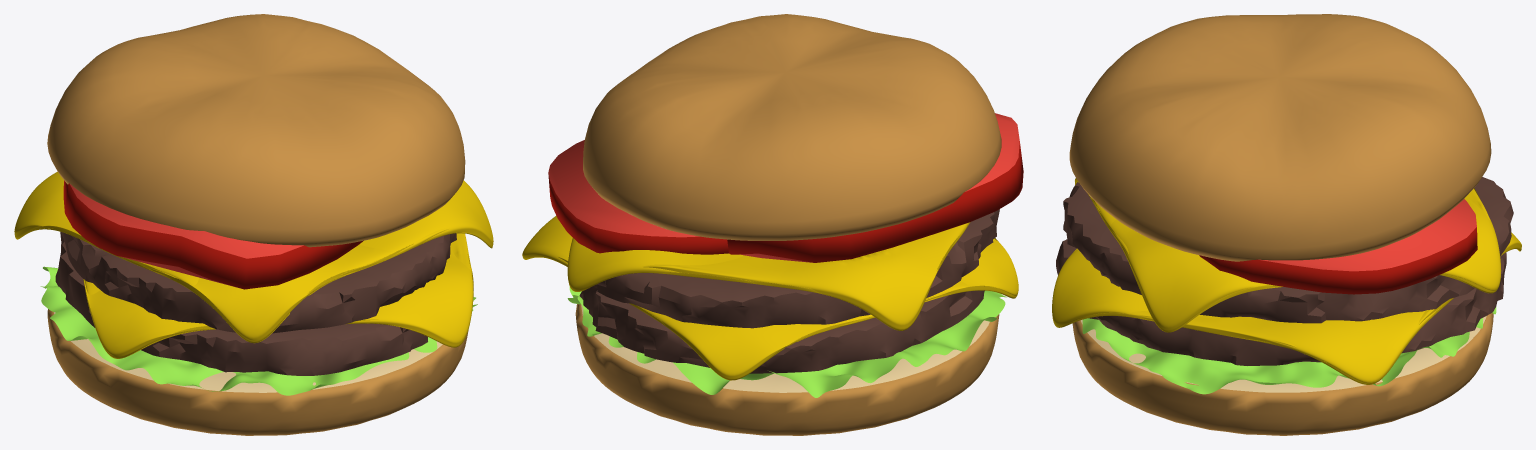
The model's file is burger-reduced.glb.
3 views of the same model, side by side, from view 1: azimuth 30°, elevation 25°; view 2: azimuth 150°, elevation 25°; view 3: azimuth 270°, elevation 25° (orthographic).
Parts seen in each view (by area): view 1: bun-top, bun-bottom, patty-2, cheese-2, tomato-1, patty-1, cheese-2.001, lettuce; view 2: bun-top, bun-bottom, cheese-2, patty-2, patty-1, cheese-2.001, tomato-1, tomato-2, lettuce; view 3: bun-top, bun-bottom, cheese-2.001, patty-2, cheese-2, tomato-2, patty-1, lettuce.
Part boxes in pixels (box(x1,y1,x2,y2)): bun-top: box(47, 14, 465, 247); bun-bottom: box(47, 309, 468, 435); patty-2: box(61, 232, 456, 333); cheese-2: box(14, 172, 493, 343); tomato-1: box(63, 180, 363, 289); patty-1: box(55, 232, 427, 375); cheese-2.001: box(83, 233, 473, 358); lettuce: box(40, 266, 477, 395); bun-top: box(583, 14, 1001, 240); bun-bottom: box(575, 304, 999, 435); cheese-2: box(567, 222, 970, 330); patty-2: box(593, 209, 999, 328); patty-1: box(579, 286, 984, 373); cheese-2.001: box(522, 216, 1018, 380); tomato-1: box(727, 113, 1023, 262); tomato-2: box(548, 140, 728, 254); lettuce: box(567, 286, 1006, 397); bun-top: box(1069, 14, 1491, 261); bun-bottom: box(1072, 313, 1493, 435); cheese-2.001: box(1052, 232, 1521, 384); patty-2: box(1063, 177, 1513, 323); cheese-2: box(1075, 178, 1501, 332); tomato-2: box(1199, 199, 1477, 294); patty-1: box(1056, 239, 1506, 365); lettuce: box(1082, 307, 1496, 394).
Bounding box in the file's own units: 2.27 × 1.53 × 2.2.
